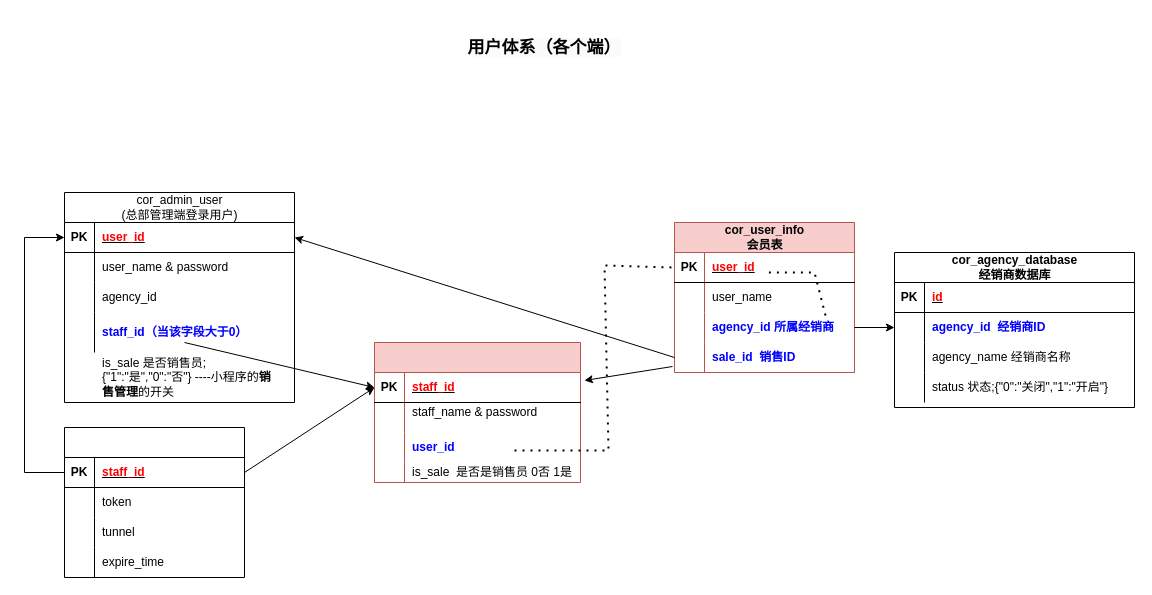
Image size: 1152x595. Some labels were removed from this diagram. The shapes that lost their labels are listed below. From the top down, each one's box as (x1, y1, x2, y2) in pixels, then its label:
(374, 342, 580, 482): cor_user_staff 会员- 员工表
(64, 426, 244, 578): cor_user_token
